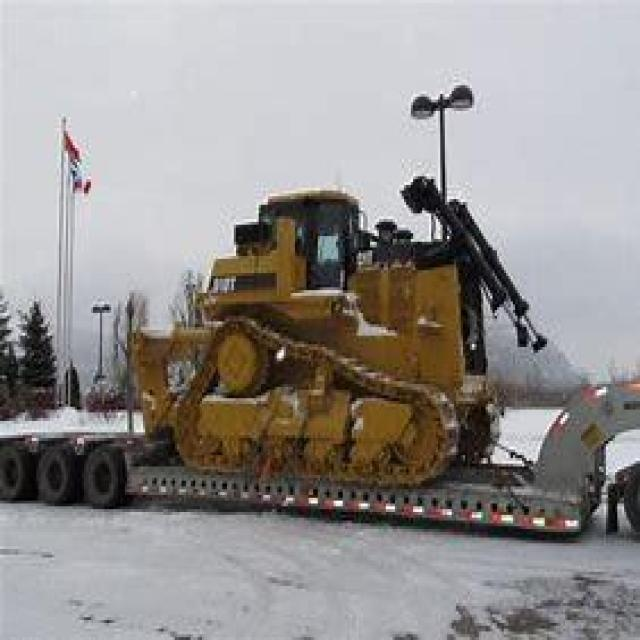buldozerpayloadergrader: (109, 145, 538, 484)
